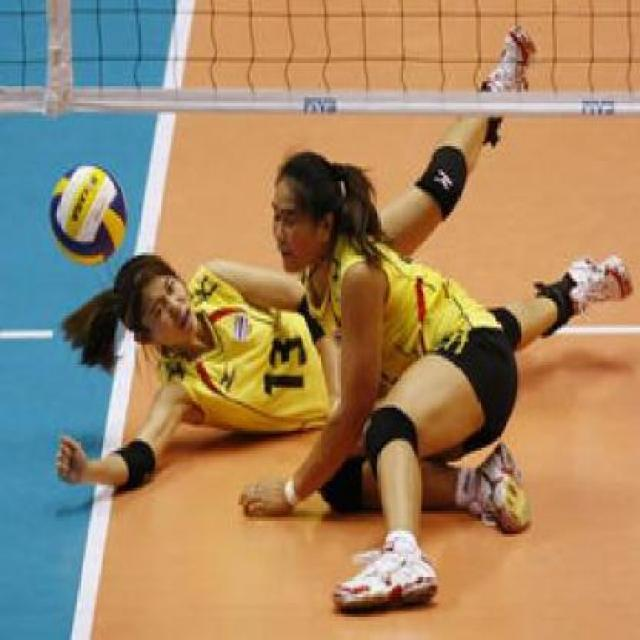fall: (230, 146, 612, 620)
